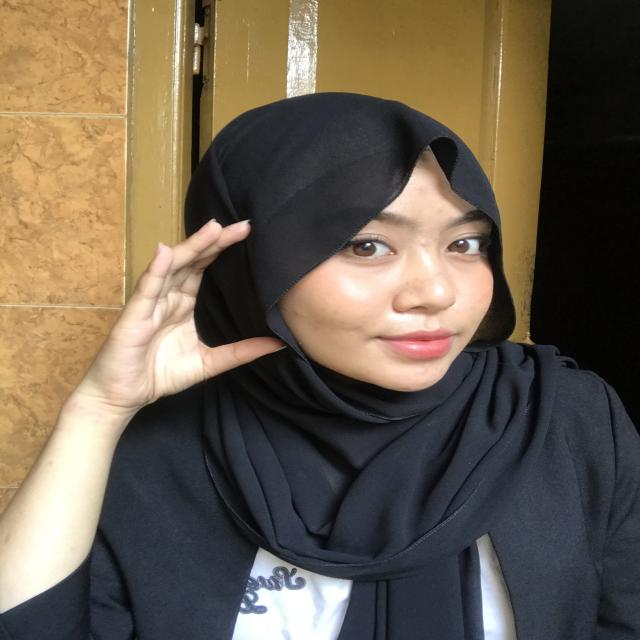mendengar: (83, 213, 284, 429)
